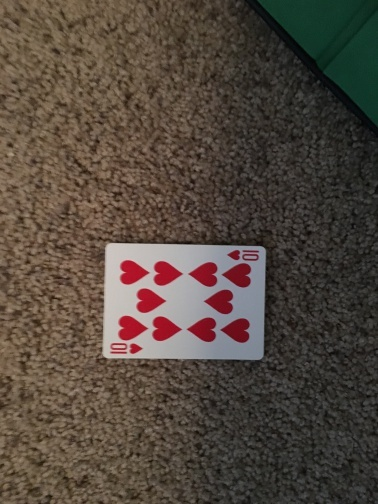ten: (104, 242, 266, 358)
